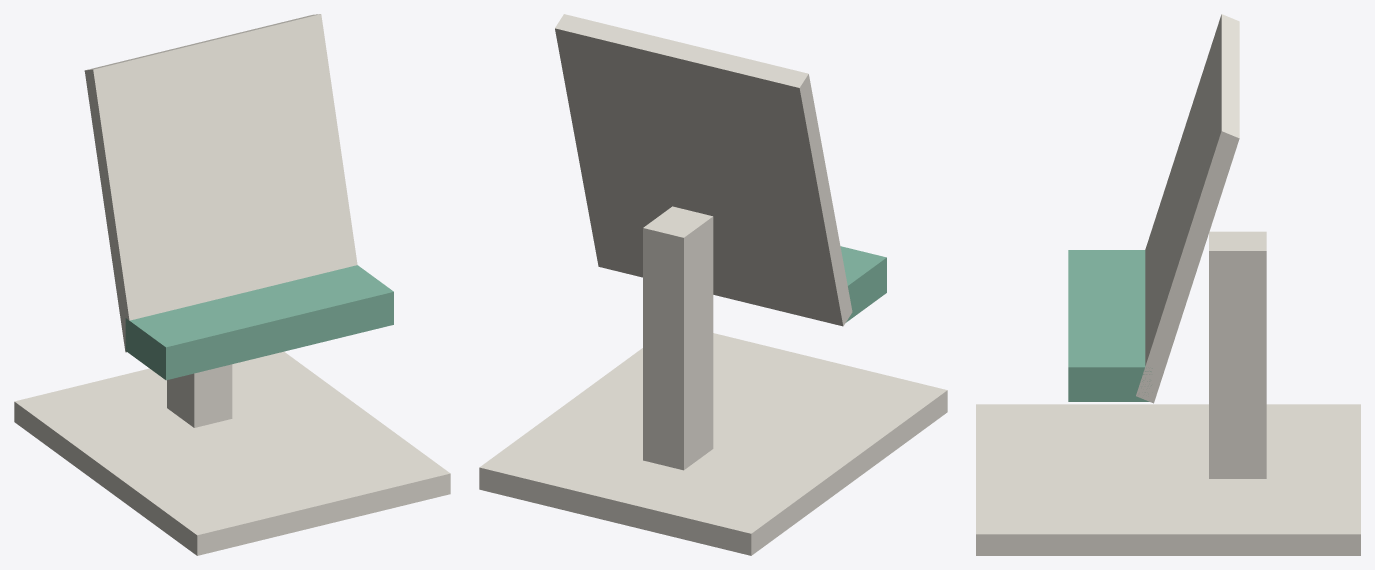
The model's file is phone-stand.glb.
The picture shows the model from 3 angles, left to right: view 1: azimuth 30°, elevation 25°; view 2: azimuth 150°, elevation 25°; view 3: azimuth 270°, elevation 25°; orthographic projection. The views are drawn at different scales.
Parts seen in each view (by area): view 1: phone-stand; view 2: phone-stand; view 3: phone-stand.
Part boxes in pixels (x1,y1,x2,y2): phone-stand: [14, 14, 450, 555]; phone-stand: [479, 14, 947, 555]; phone-stand: [976, 14, 1360, 555].
Bounding box in the file's own units: 8 × 12 × 10.
